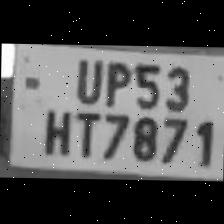1: (186, 113, 217, 166)
3: (160, 60, 191, 110)
5: (128, 57, 161, 108)
7: (95, 107, 126, 161), (158, 112, 187, 164)
8: (127, 111, 158, 164)
H: (36, 103, 72, 157)
P: (100, 56, 131, 106)
T: (70, 107, 99, 158)
U: (68, 53, 102, 104)
